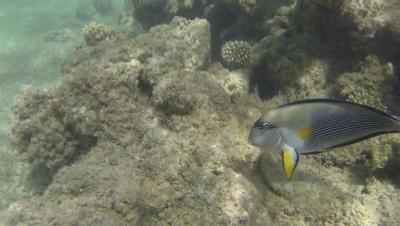Acanthuridae -Surgeonfishes-: (240, 92, 398, 167)
